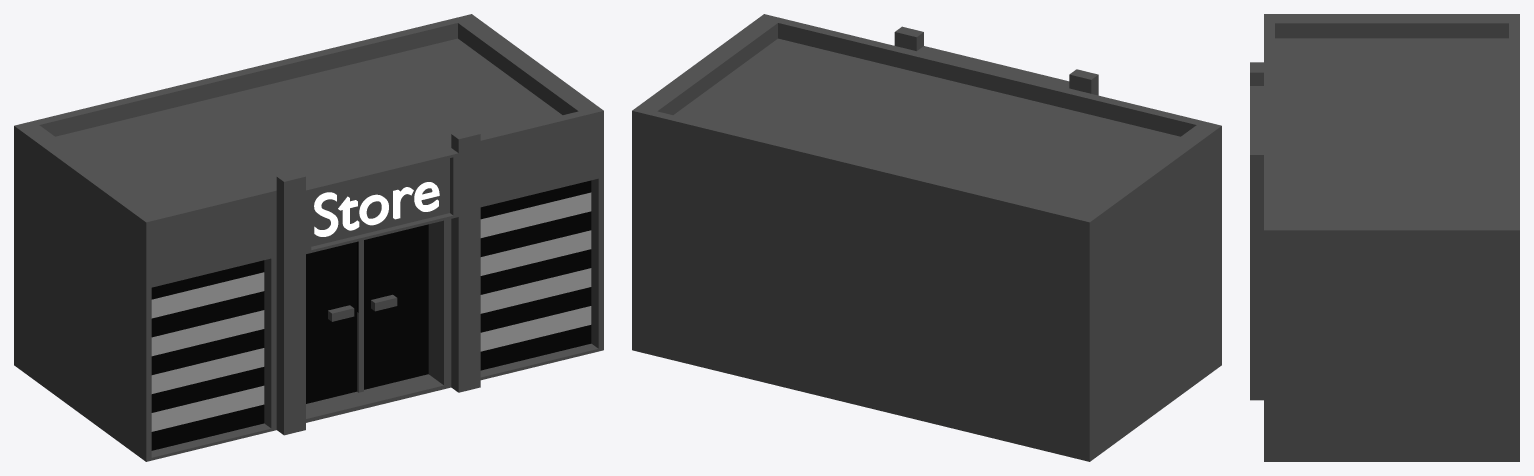
Rendered from Magasin1.fbx.
The picture shows the model from 3 angles, left to right: view 1: azimuth 30°, elevation 25°; view 2: azimuth 150°, elevation 25°; view 3: azimuth 270°, elevation 25°; orthographic projection. The views are drawn at different scales.
Visible parts, largest first — view 1: Text; view 2: Text; view 3: Text.
Boxes of the visible parts, x1=… form: Text: x1=14, y1=14, x2=603, y2=461; Text: x1=632, y1=14, x2=1221, y2=461; Text: x1=1250, y1=14, x2=1519, y2=461.
Bounding box in the file's own units: 2000 × 1058 × 1055.
